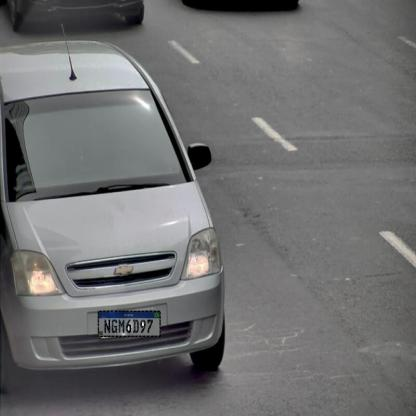PlacaM: (98, 311, 160, 337)
